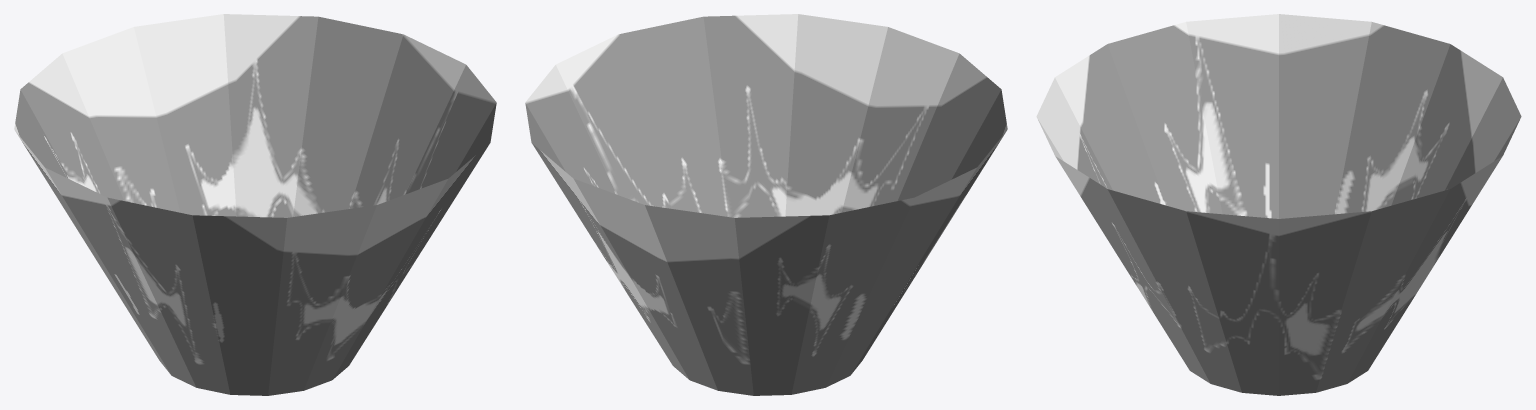
File: eff_cylinder_s_13.FBX
3 renders of one model, left to right at view 1: azimuth 30°, elevation 25°; view 2: azimuth 150°, elevation 25°; view 3: azimuth 270°, elevation 25°, orthographic.
Parts seen in each view (by area): view 1: eff_cylinder_s_13; view 2: eff_cylinder_s_13; view 3: eff_cylinder_s_13.
Part boxes in pixels (box(x1,y1,x2,y2)): eff_cylinder_s_13: box(14, 14, 496, 395); eff_cylinder_s_13: box(525, 14, 1007, 395); eff_cylinder_s_13: box(1036, 14, 1521, 395).
Size of the model in its own units: 368 by 200 by 368.
